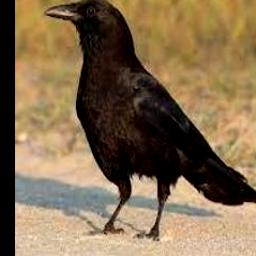Crow: (44, 0, 256, 240)
